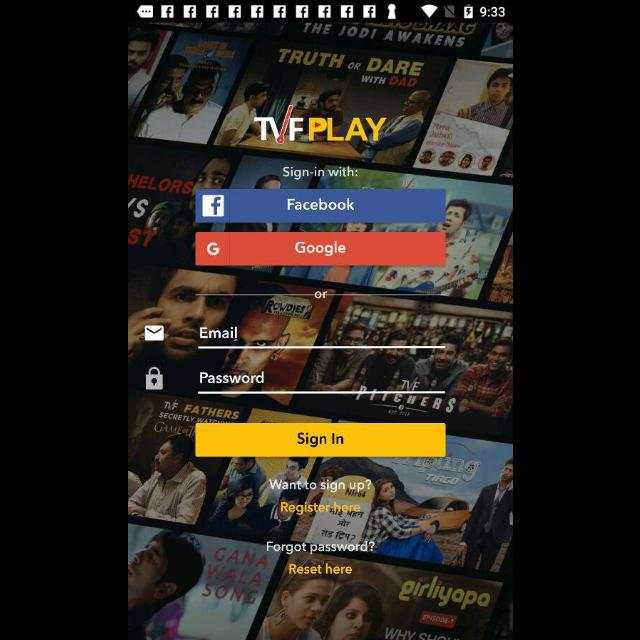backgroundimage: (128, 22, 512, 640)
icon: (145, 368, 163, 390), (144, 326, 164, 342)
image: (254, 106, 386, 144)
input: (197, 327, 445, 349), (197, 372, 445, 394)
text: (266, 541, 374, 555), (268, 479, 370, 493), (280, 501, 360, 515), (282, 167, 358, 181), (200, 371, 264, 383), (288, 563, 352, 575), (199, 327, 237, 339), (312, 288, 328, 300)
textbutton: (195, 232, 445, 266), (195, 423, 445, 457), (196, 189, 444, 223)
uppertaskbar: (128, 1, 512, 23)
